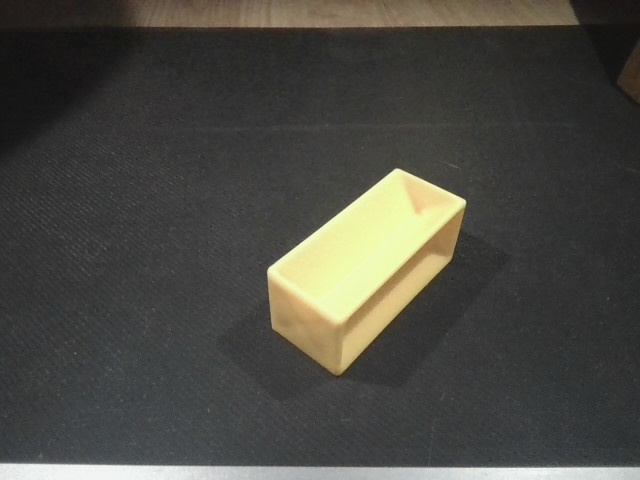YellowSample: (263, 164, 468, 382)
